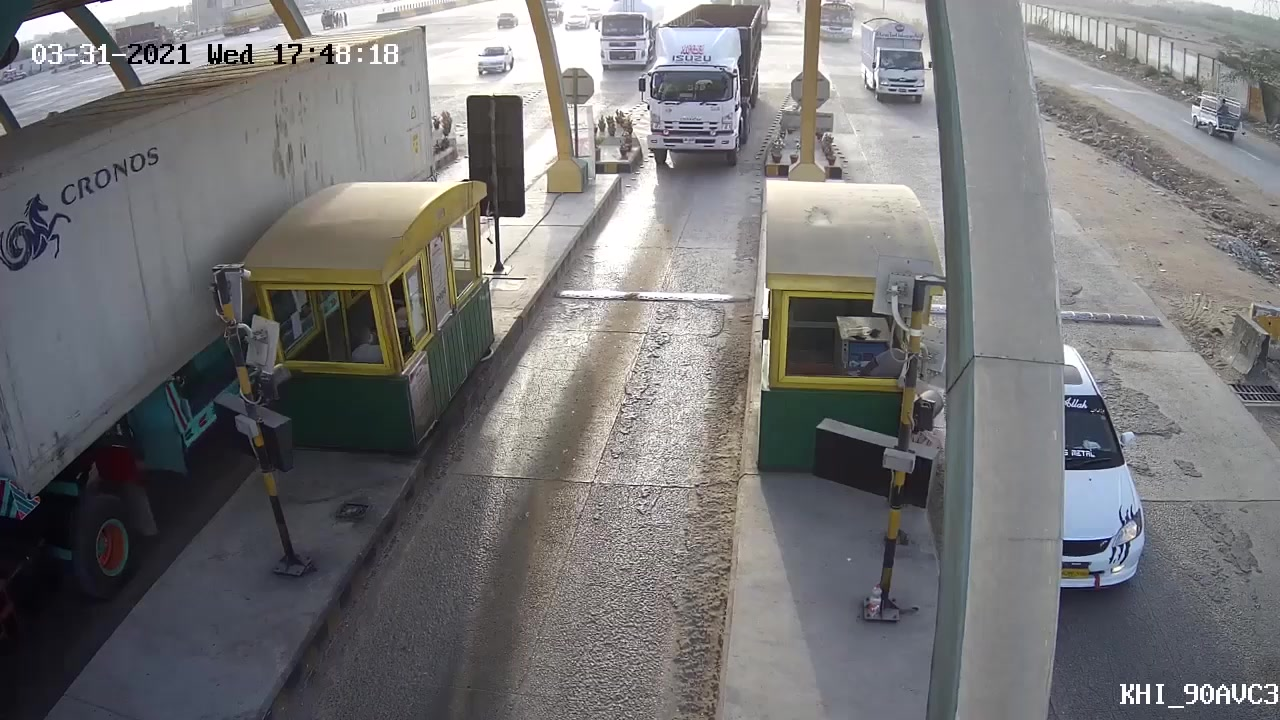F5: (629, 1, 768, 166)
